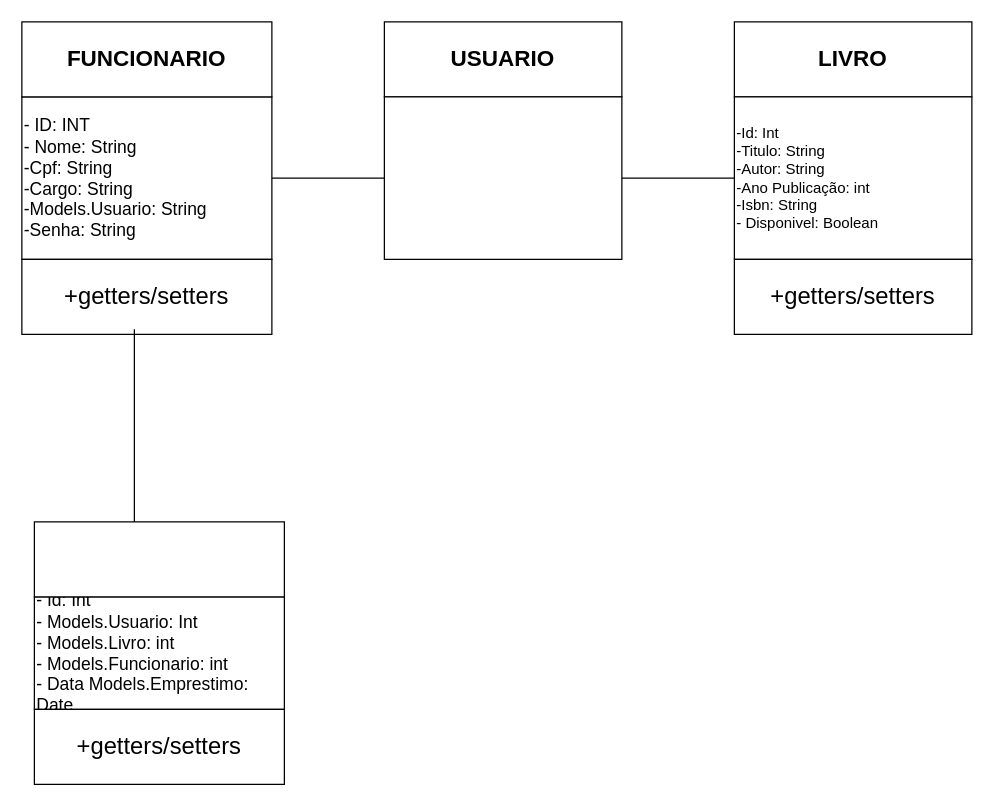
The diagram is 994 pixels wide and 806 high, and some of its shapes have lost their labels. The shapes that lost their labels are listed below. From the top down, each one's centre as x and y in pixels, then its label:
the point at 502,177: -Id: int -Nome: String -Cpf: String -Emprestimos Ativos: int
the point at 158,559: EMPRESTIMO
